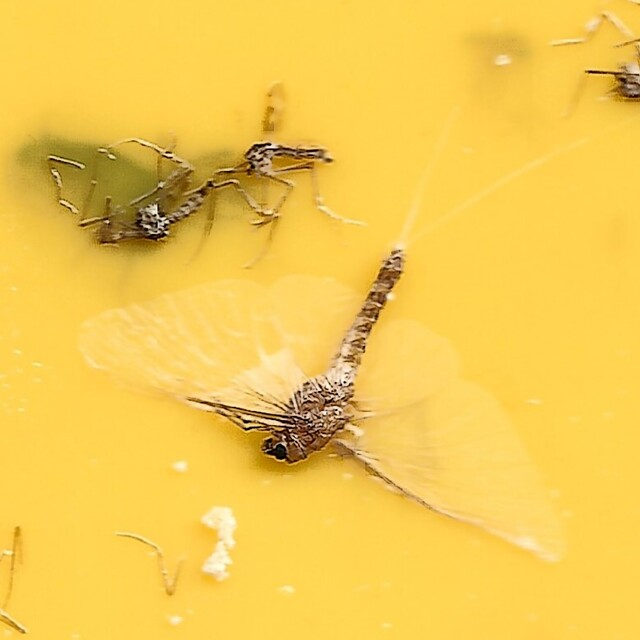Ephemeroptera: (82, 249, 558, 557)
Nematocera: (100, 171, 217, 249), (240, 83, 331, 180)
